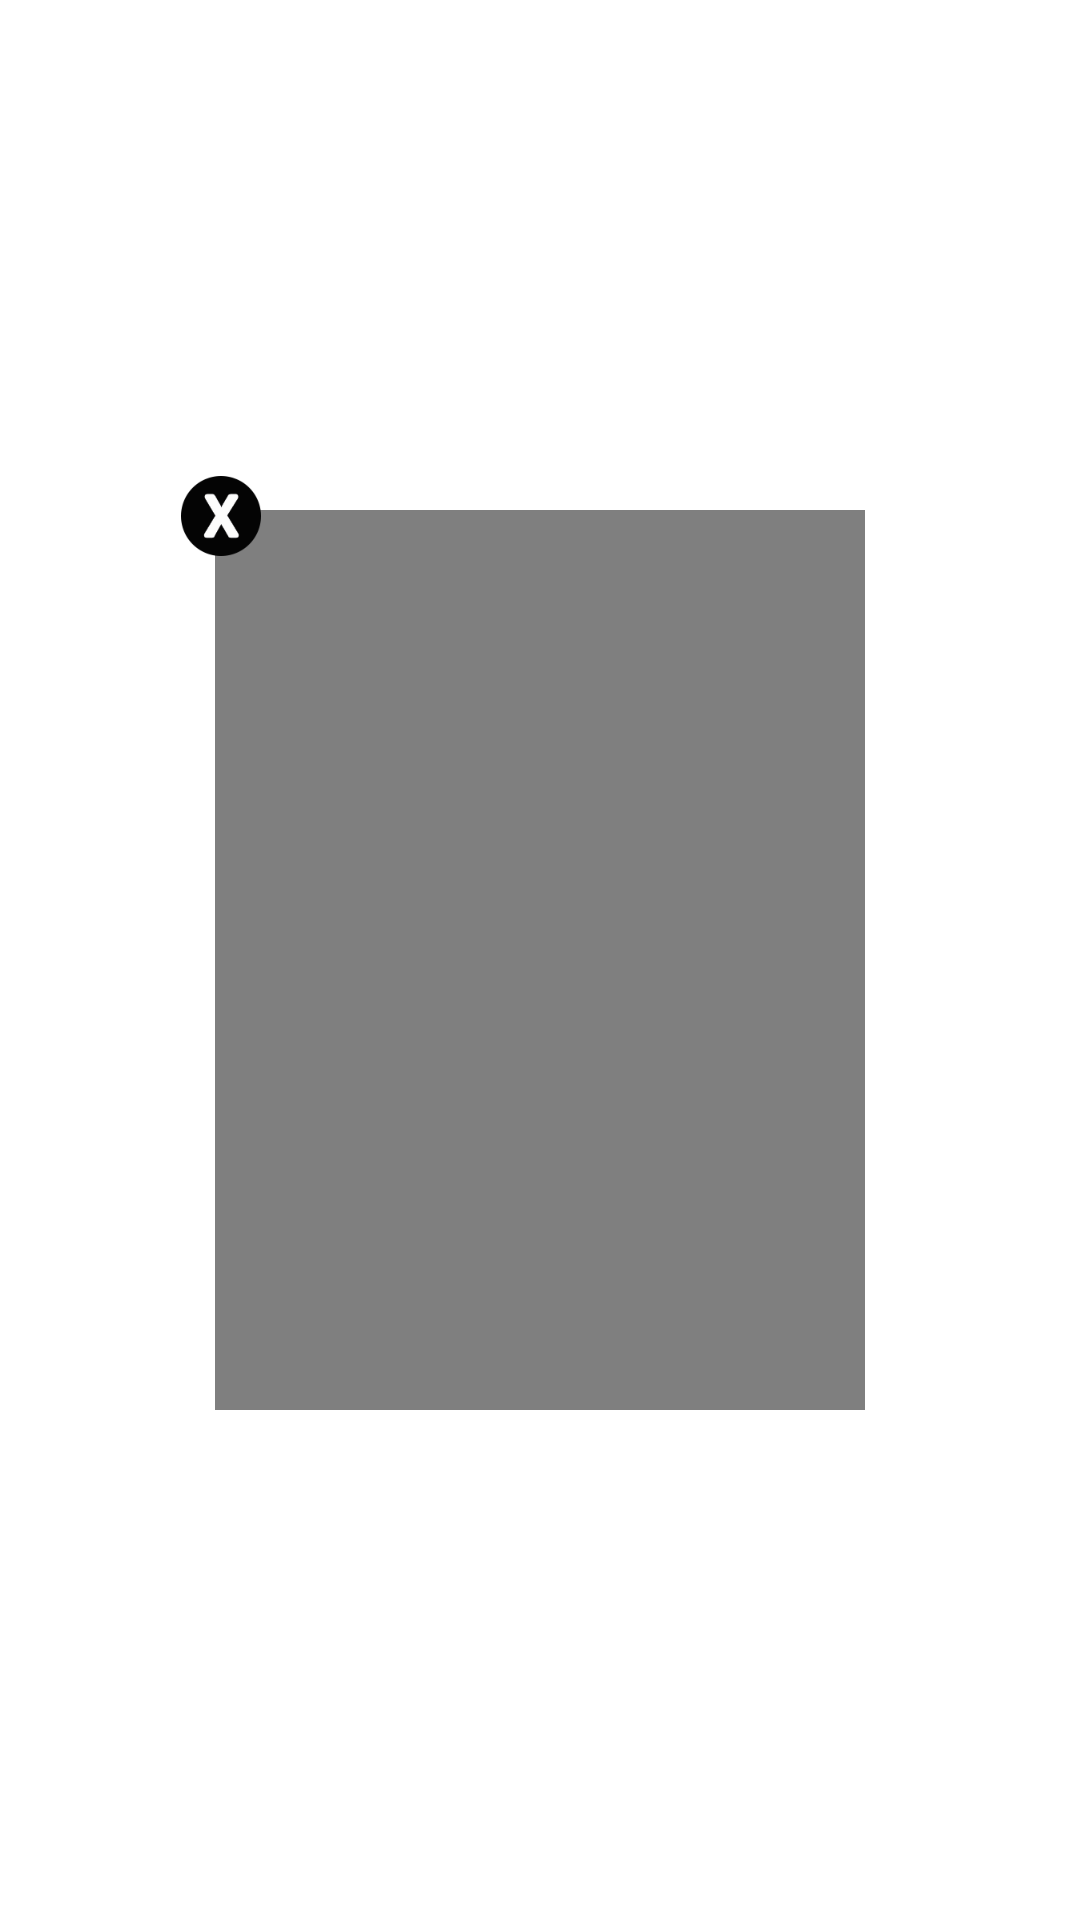

Icon click points for this 1080×1920 phone screenshot, format point (x, y):
cancel circle: point (221, 516)
